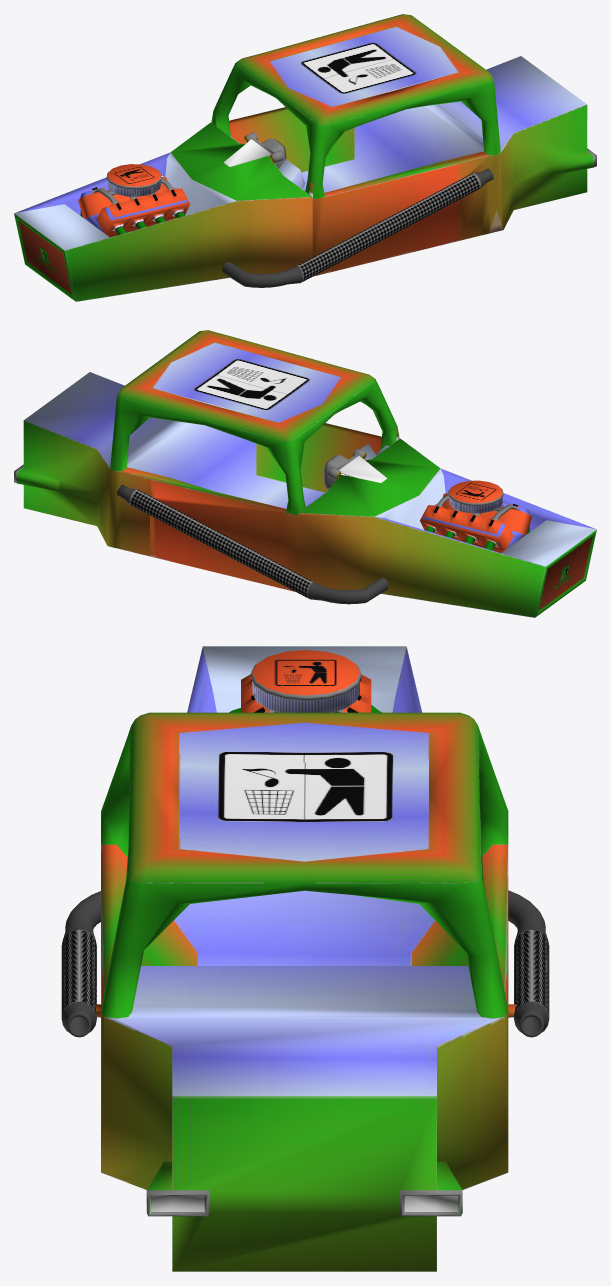
The model's file is dune_buggy.obj.
3 renders of one model, top to bottom at view 1: azimuth 30°, elevation 25°; view 2: azimuth 150°, elevation 25°; view 3: azimuth 270°, elevation 25°, orthographic. The views are drawn at different scales.
Visible parts, largest first — view 1: cylinder2_sep3_cube5_sep7_auv, cylinder2_sep3_cylinder2_copy3_auv; view 2: cylinder2_sep3_cube5_sep7_auv, cylinder2_sep3_cylinder2_copy3_auv; view 3: cylinder2_sep3_cube5_sep7_auv, cylinder2_sep3_z_rearlights.
Boxes of the visible parts, <box> form: cylinder2_sep3_cube5_sep7_auv: <box>14,14,596,301</box>; cylinder2_sep3_cylinder2_copy3_auv: <box>244,132,286,168</box>; cylinder2_sep3_cube5_sep7_auv: <box>14,330,596,617</box>; cylinder2_sep3_cylinder2_copy3_auv: <box>324,448,366,489</box>; cylinder2_sep3_cube5_sep7_auv: <box>61,646,549,1271</box>; cylinder2_sep3_z_rearlights: <box>151,1196,457,1211</box>.
Size of the model in its own units: 3.53 by 0.98 by 1.44.
